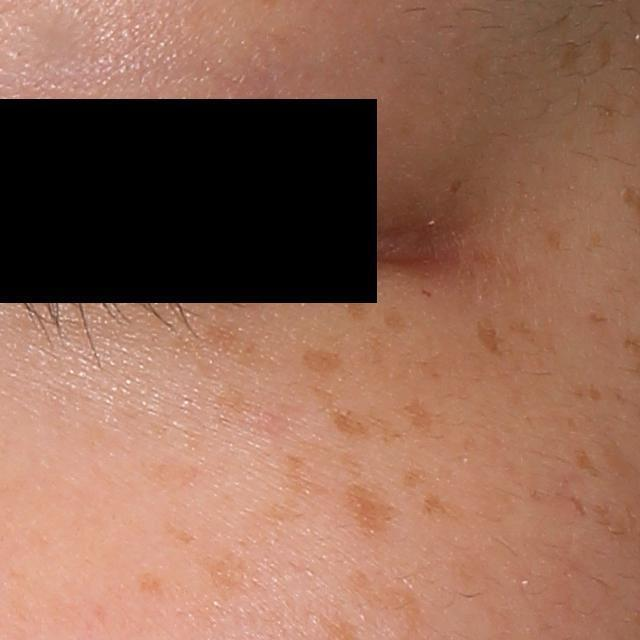melasma: (299, 383, 406, 448), (253, 449, 340, 525), (194, 552, 263, 604), (346, 480, 402, 539), (299, 342, 357, 378), (401, 393, 438, 435), (474, 318, 505, 361), (133, 567, 171, 601), (421, 489, 461, 521), (161, 518, 199, 550), (397, 465, 433, 492), (556, 39, 583, 73), (381, 303, 411, 333), (573, 449, 602, 479), (584, 379, 607, 403), (566, 493, 588, 518), (600, 40, 617, 70), (545, 227, 564, 250), (588, 309, 612, 325), (444, 176, 462, 197)
